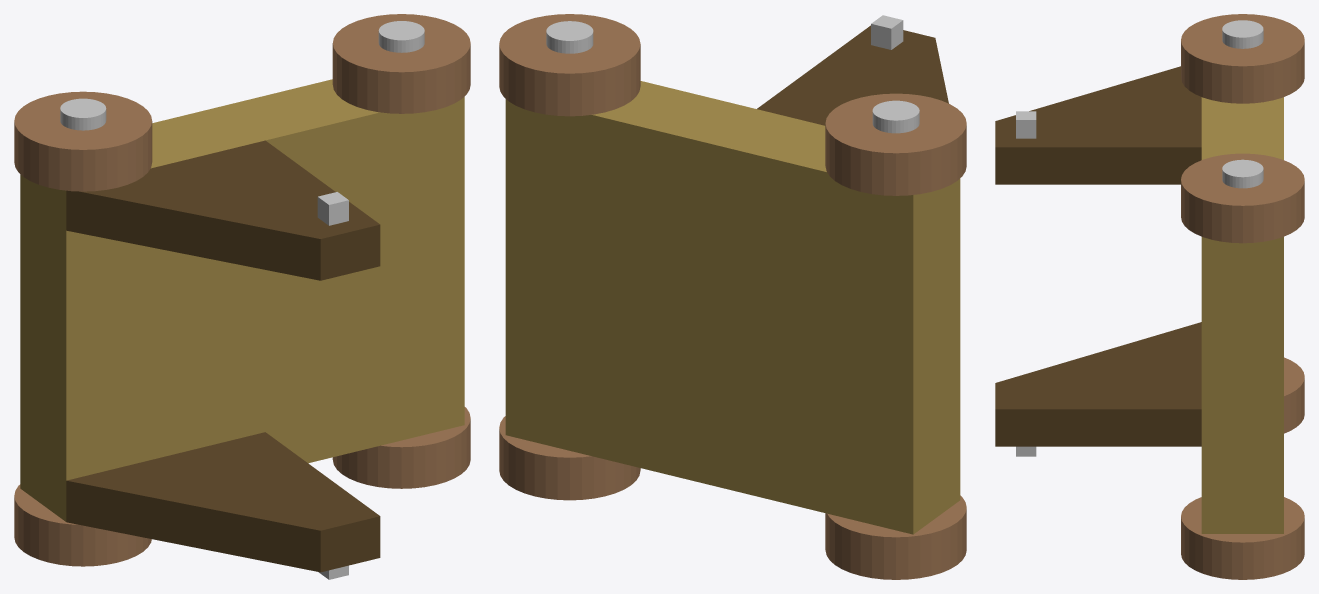
The model's file is cannon.obj.
3 renders of one model, left to right at view 1: azimuth 30°, elevation 25°; view 2: azimuth 150°, elevation 25°; view 3: azimuth 270°, elevation 25°, orthographic. The views are drawn at different scales.
Visible parts, largest first — view 1: b_cannon_base_001_, b_cannon_support_001_001, b_cannon_support_001_, b_cannon_wheel_001_, b_cannon_wheel_001_001, b_cannon_wheel_001_003, b_cannon_wheel_001_002, b_cannon_wheel_pin_001_, b_cannon_wheel_pin_001_001, b_cannon_support_pin_001_; view 2: b_cannon_base_001_, b_cannon_wheel_001_001, b_cannon_wheel_001_, b_cannon_support_001_, b_cannon_wheel_001_002, b_cannon_wheel_001_003, b_cannon_wheel_pin_001_, b_cannon_wheel_pin_001_001, b_cannon_support_pin_001_; view 3: b_cannon_base_001_, b_cannon_support_001_001, b_cannon_support_001_, b_cannon_wheel_001_, b_cannon_wheel_001_001, b_cannon_wheel_001_003, b_cannon_wheel_001_002, b_cannon_wheel_pin_001_001, b_cannon_wheel_pin_001_, b_cannon_support_pin_001_.
Boxes of the visible parts, bbox=[...] form: b_cannon_base_001_: bbox=[20, 79, 464, 521]; b_cannon_support_001_001: bbox=[66, 432, 380, 572]; b_cannon_support_001_: bbox=[66, 140, 380, 280]; b_cannon_wheel_001_: bbox=[14, 91, 152, 191]; b_cannon_wheel_001_001: bbox=[332, 14, 470, 113]; b_cannon_wheel_001_003: bbox=[332, 407, 470, 488]; b_cannon_wheel_001_002: bbox=[14, 484, 151, 566]; b_cannon_wheel_pin_001_: bbox=[60, 98, 106, 130]; b_cannon_wheel_pin_001_001: bbox=[378, 21, 424, 52]; b_cannon_support_pin_001_: bbox=[317, 192, 348, 225]; b_cannon_base_001_: bbox=[505, 81, 960, 534]; b_cannon_wheel_001_001: bbox=[499, 14, 640, 116]; b_cannon_wheel_001_: bbox=[825, 93, 966, 195]; b_cannon_support_001_: bbox=[757, 25, 948, 125]; b_cannon_wheel_001_002: bbox=[825, 495, 966, 579]; b_cannon_wheel_001_003: bbox=[499, 416, 640, 500]; b_cannon_wheel_pin_001_: bbox=[872, 100, 919, 133]; b_cannon_wheel_pin_001_001: bbox=[546, 21, 593, 53]; b_cannon_support_pin_001_: bbox=[871, 15, 903, 49]; b_cannon_base_001_: bbox=[1201, 97, 1283, 533]; b_cannon_support_001_001: bbox=[995, 322, 1201, 446]; b_cannon_support_001_: bbox=[995, 66, 1201, 184]; b_cannon_wheel_001_: bbox=[1181, 14, 1304, 103]; b_cannon_wheel_001_001: bbox=[1181, 153, 1304, 243]; b_cannon_wheel_001_003: bbox=[1181, 497, 1304, 579]; b_cannon_wheel_001_002: bbox=[1284, 357, 1304, 433]; b_cannon_wheel_pin_001_001: bbox=[1222, 159, 1263, 188]; b_cannon_wheel_pin_001_: bbox=[1222, 20, 1263, 48]; b_cannon_support_pin_001_: bbox=[1016, 111, 1036, 138].
Size of the model in its own units: 110 by 106 by 75.
